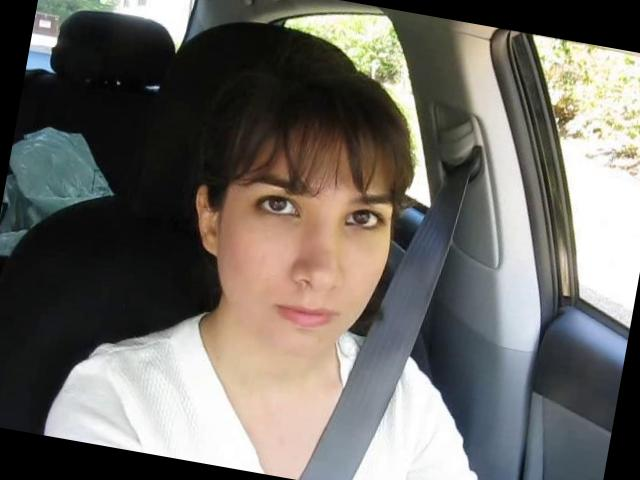eye_open: (245, 184, 307, 230), (337, 201, 390, 244)
face: (209, 123, 414, 368)
